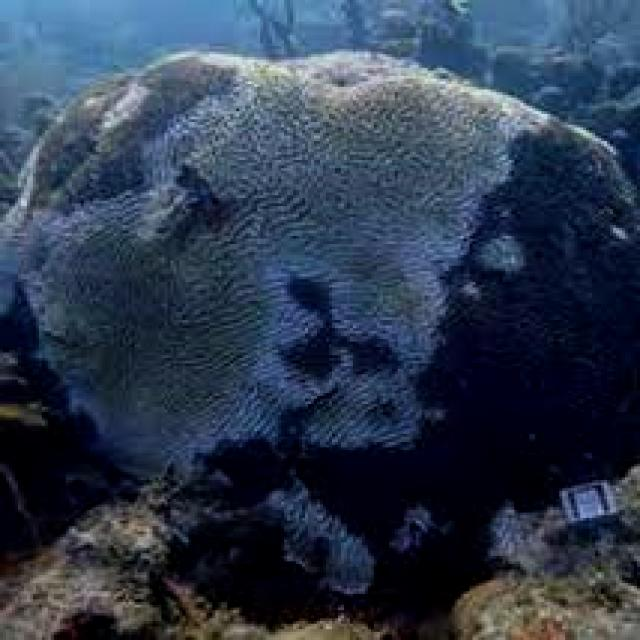Coral: (0, 49, 640, 597)
